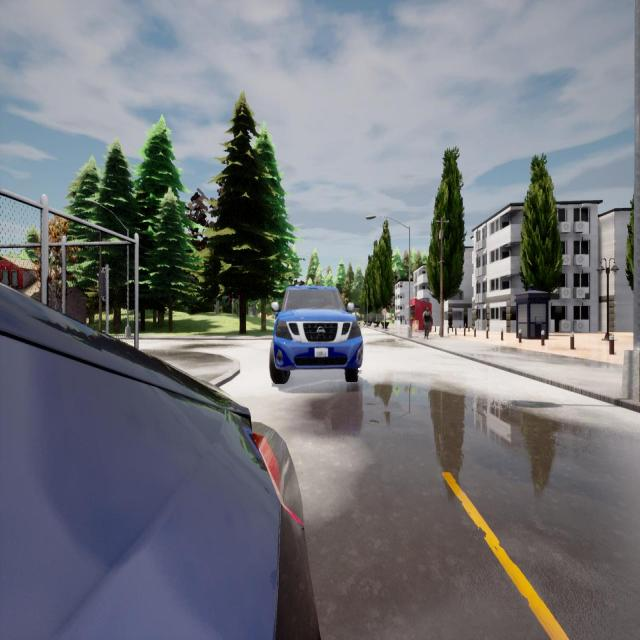Pedestrian: (422, 306, 432, 339)
Traffic_Signs: (382, 309, 386, 315)
Vehicle: (0, 283, 317, 640), (269, 286, 362, 382)
traffic_light: (99, 272, 106, 296)
